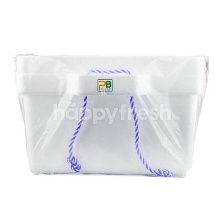foam_box: (8, 47, 212, 182)
